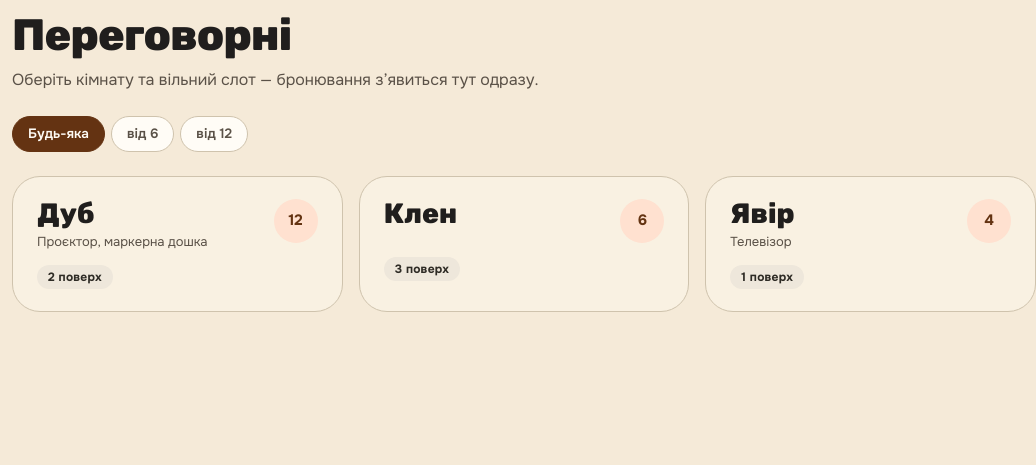
Test: error state › shows the last successful list when «Показати збережену копію» is pressed
The image size is (1036, 465).
Expected: the link "Дуб Проєктор, маркерна дошка 12 2 поверх" is shown, [12,176,343,312]
Click the radio button labelled "від 6" at (143, 134), box [111,116,174,152]
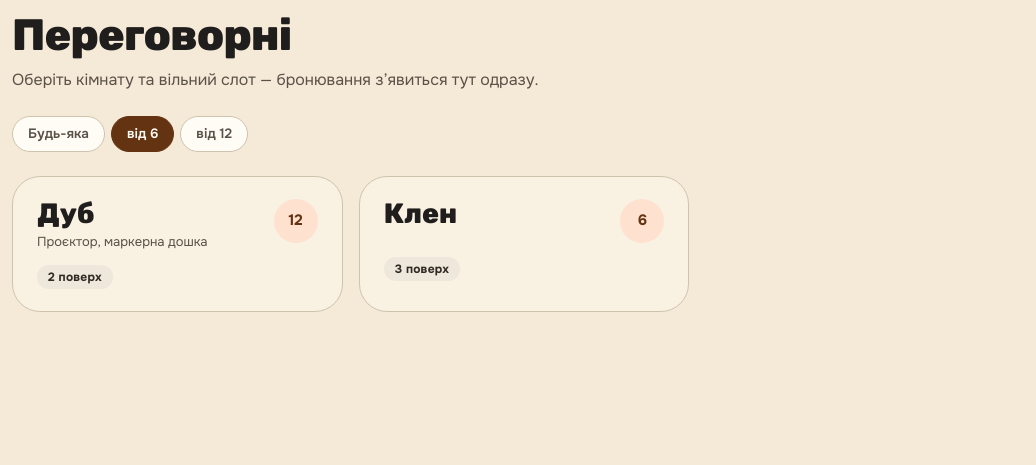
Expected: the link "Дуб Проєктор, маркерна дошка 12 2 поверх" is shown, [12,176,343,312]
Click the radio button labelled "Будь-яка" at (58, 134), box [12,116,105,152]
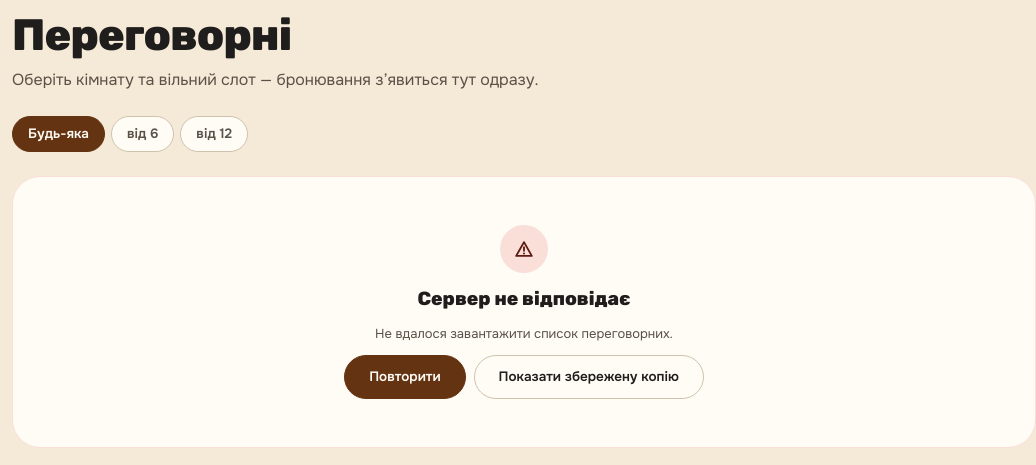
Expected: the button "Показати збережену копію" is enabled
Click the button "Показати збережену копію" at (589, 377), box [474,355,704,399]
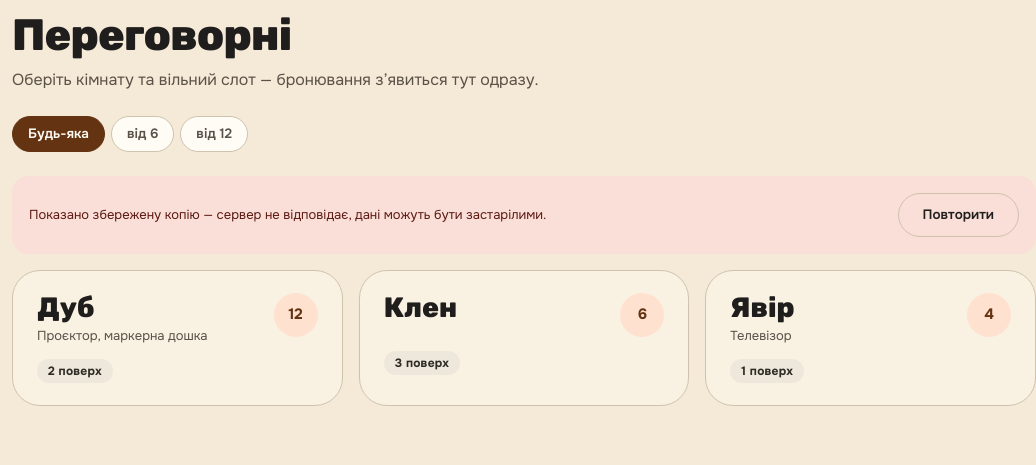
Expected: the link "Явір Телевізор 4 1 поверх" is shown, [705,270,1035,406]
Expected: the text "збережену копію" is shown, [29,206,546,222]
